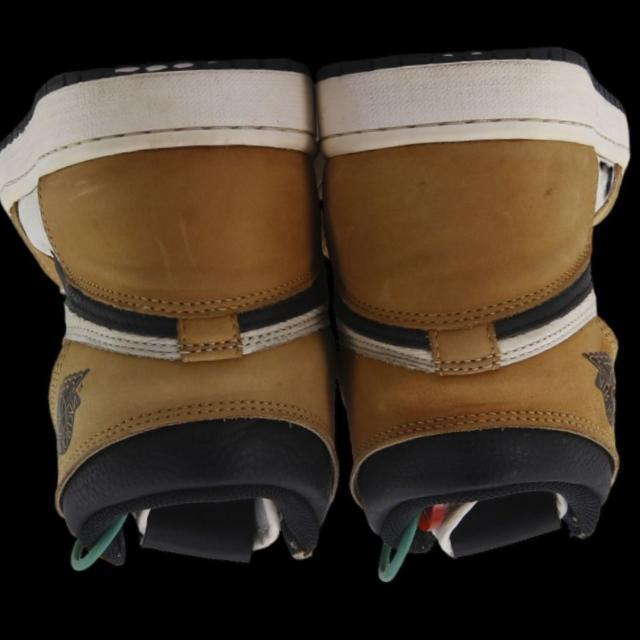nike original jordan 1: (308, 40, 640, 560)
